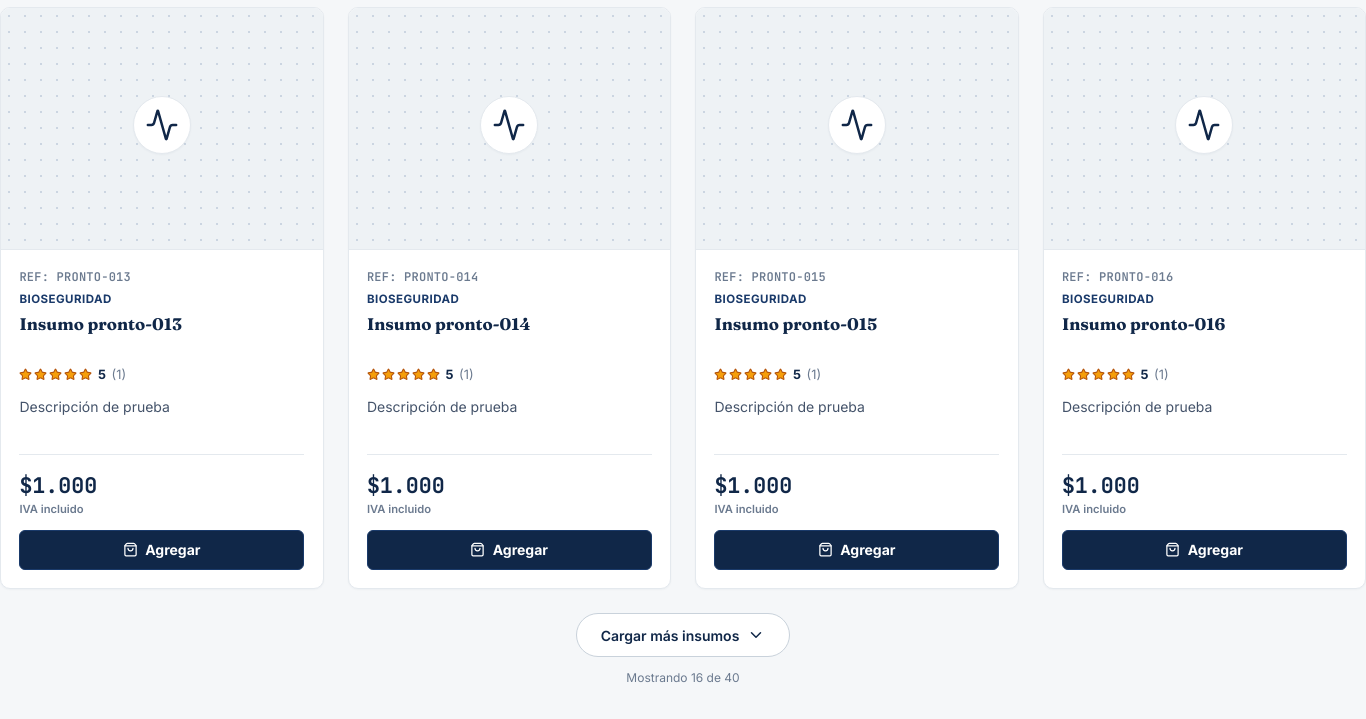
Test case: ProductList progressive reveal (Task 8.7) › preserves the incoming array order across reveals
(page scrolled)
Click the button "Cargar más insumos": (683, 635) x1=576 y1=613 x2=790 y2=657
(page scrolled)
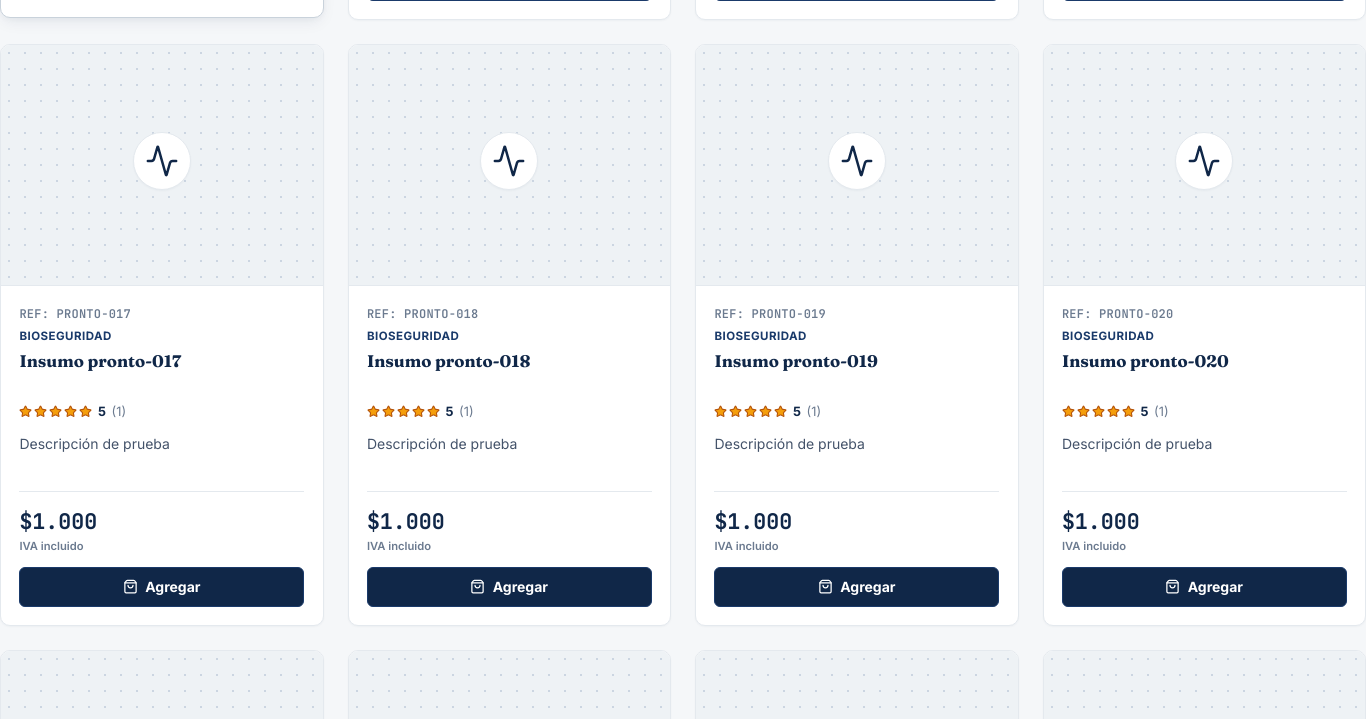
Check: the element that starts with "REF:" shows "Insumo pronto-017", box x1=19 y1=351 x2=181 y2=371
